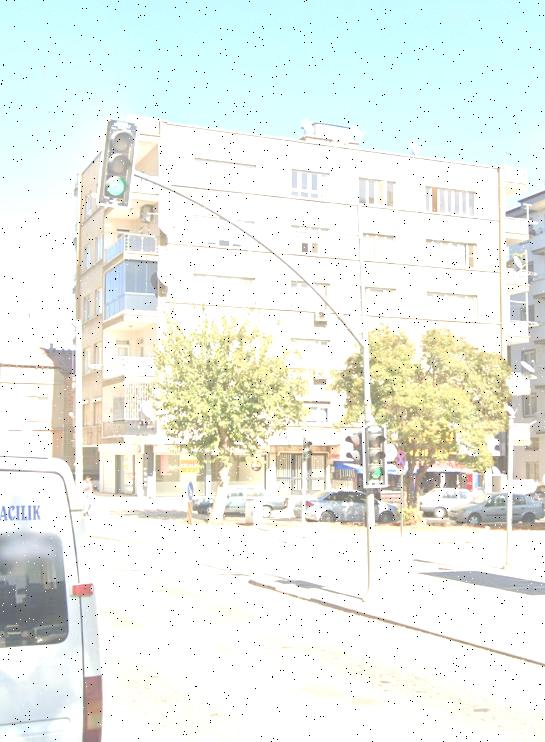greenlight: (104, 119, 135, 208), (363, 427, 383, 491)
redlight: (346, 431, 363, 464)
